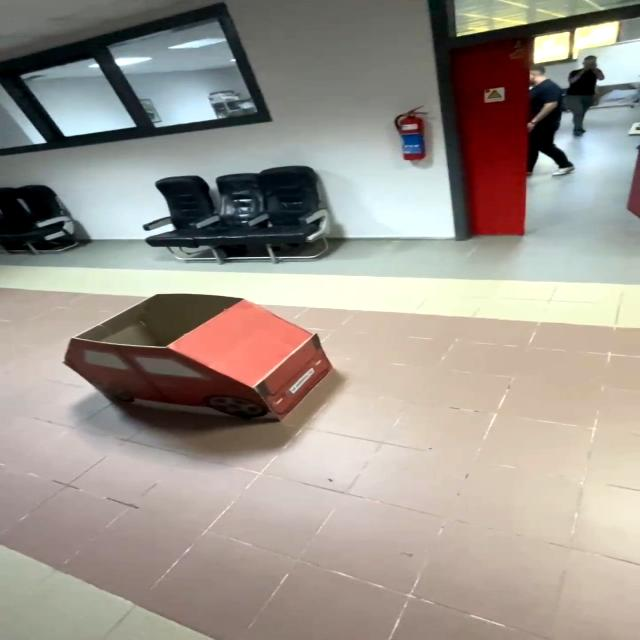red_car: (41, 284, 351, 462)
